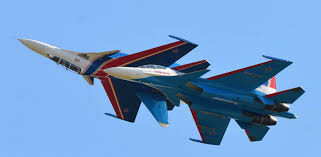maybay_muctieu: (107, 51, 306, 146), (18, 35, 202, 125)
